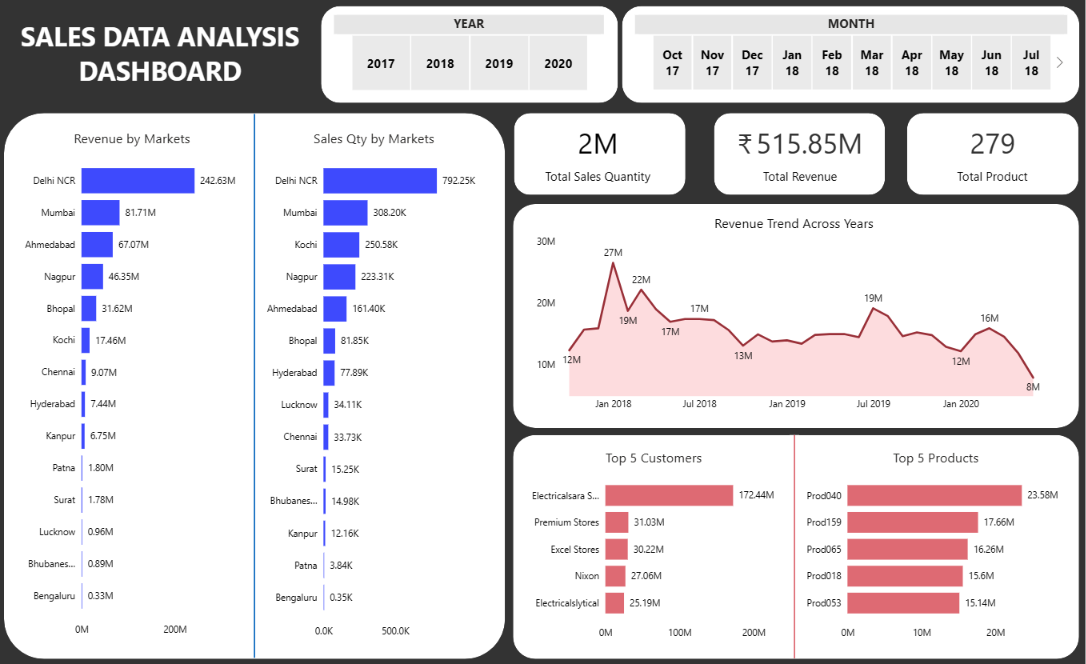

This screenshot's page, from the dashboard's own definition file:
{"tool":"powerbi","page":{"name":"Home","canvas":[1550,950],"ordinal":0},"visuals":[{"type":"shape","box":[888,8.6,653.5,138.6],"z":0,"group":"g2"},{"type":"shape","box":[5.7,161.4,715.7,780],"z":0},{"type":"shape","box":[734.3,161.4,245,117.1],"z":0,"group":"g3"},{"type":"shape","box":[1020,161.4,244.2,117.1],"z":0,"group":"g4"},{"type":"advanceCardE03760C5AB684758B56AA29F9E6C257B","fields":{"mainMeasure":["BaseMeasures (2).Total Revenue"]},"box":[1031,167.1,223.5,105.7],"z":1000,"group":"g4"},{"type":"shape","box":[732.9,291.4,808.6,320],"z":1000},{"type":"advanceCardE03760C5AB684758B56AA29F9E6C257B","fields":{"mainMeasure":["BaseMeasures (2).Sales Qty"]},"box":[745.7,167.1,217.4,105.7],"z":2000,"group":"g3"},{"type":"shape","box":[732.9,621.4,808.6,320],"z":2000},{"type":"barChart","title":"Revenue by Markets","fields":{"Category":["sales markets.markets_name"],"Y":["BaseMeasures (2).Revenue"]},"box":[18,184.3,340,735],"z":3000},{"type":"shape","box":[458.6,8,424.3,138.6],"z":3500,"group":"g1"},{"type":"slicer","title":"YEAR","fields":{"Values":["sales date.year"]},"box":[477.2,20.9,385.7,114.3],"z":4000,"group":"g1"},{"type":"barChart","title":"Sales Qty by Markets","fields":{"Category":["sales markets.markets_name"],"Y":["BaseMeasures (2).Sales Qty"]},"box":[364,184.3,340,737.1],"z":4000},{"type":"slicer","title":"MONTH","fields":{"Values":["sales date.cy_date"]},"box":[906.6,21.5,617.8,113.8],"z":5000,"group":"g2"},{"type":"barChart","title":"Top 5 Customers","fields":{"Category":["sales customers.custmer_name"],"Y":["BaseMeasures (2).Revenue"]},"box":[740,640,388,284],"z":5000},{"type":"barChart","title":"Top 5 Products","fields":{"Category":["sales products.product_code"],"Y":["BaseMeasures (2).Revenue"]},"box":[1142.9,640,388,284],"z":6000},{"type":"areaChart","title":"Revenue Trend Across Years","fields":{"Category":["sales date.cy_date"],"Y":["BaseMeasures (2).Total Revenue"]},"box":[761.4,305.7,745.7,291.4],"z":7000},{"type":"textbox","box":[0,21.4,457.1,140],"z":8000},{"type":"shape","box":[1295.7,161.4,245,117.1],"z":8000,"group":"g5"},{"type":"group","id":"g1","title":"Group 1","box":[458.6,8,424.3,138.6],"z":9000},{"type":"group","id":"g2","title":"Group 2","box":[888,8.6,652.9,138.6],"z":10000},{"type":"group","id":"g3","title":"Group 3","box":[734.3,161.4,245.7,117.1],"z":11000},{"type":"group","id":"g4","title":"Group 4","box":[1020,161.4,245.7,117.1],"z":12000},{"type":"advanceCardE03760C5AB684758B56AA29F9E6C257B","fields":{"mainMeasure":["sales transactions.Total Product"]},"box":[1329,167.3,179.2,105.7],"z":12500,"group":"g5"},{"type":"group","id":"g5","title":"Group 5","box":[1295.7,161.4,245.7,117.1],"z":13000},{"type":"shape","box":[357.1,162.9,12.9,777],"z":14000},{"type":"shape","box":[1128,621,12.9,319],"z":15000}]}

Visuals, with their boxes in screenshot pixels (x1, y1, x2, y2), scaled from the page's 1550x950 canvas onto the 1086x664 screenshot:
shape: [622, 6, 1080, 103]
shape: [4, 113, 505, 658]
shape: [514, 113, 686, 195]
shape: [715, 113, 886, 195]
advanceCardE03760C5AB684758B56AA29F9E6C257B - BaseMeasures (2).Total Revenue: [722, 117, 879, 191]
shape: [514, 204, 1080, 427]
advanceCardE03760C5AB684758B56AA29F9E6C257B - BaseMeasures (2).Sales Qty: [522, 117, 675, 191]
shape: [514, 434, 1080, 658]
"Revenue by Markets" barChart: [13, 129, 251, 643]
shape: [321, 6, 619, 102]
"YEAR" slicer: [334, 15, 605, 94]
"Sales Qty by Markets" barChart: [255, 129, 493, 644]
"MONTH" slicer: [635, 15, 1068, 95]
"Top 5 Customers" barChart: [518, 447, 790, 646]
"Top 5 Products" barChart: [801, 447, 1073, 646]
"Revenue Trend Across Years" areaChart: [533, 214, 1056, 417]
textbox: [0, 15, 320, 113]
shape: [908, 113, 1079, 195]
"Group 1" group: [321, 6, 619, 102]
"Group 2" group: [622, 6, 1080, 103]
"Group 3" group: [514, 113, 687, 195]
"Group 4" group: [715, 113, 887, 195]
advanceCardE03760C5AB684758B56AA29F9E6C257B - sales transactions.Total Product: [931, 117, 1057, 191]
"Group 5" group: [908, 113, 1080, 195]
shape: [250, 114, 259, 657]
shape: [790, 434, 799, 657]
